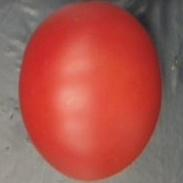unripe: (17, 0, 169, 183)
